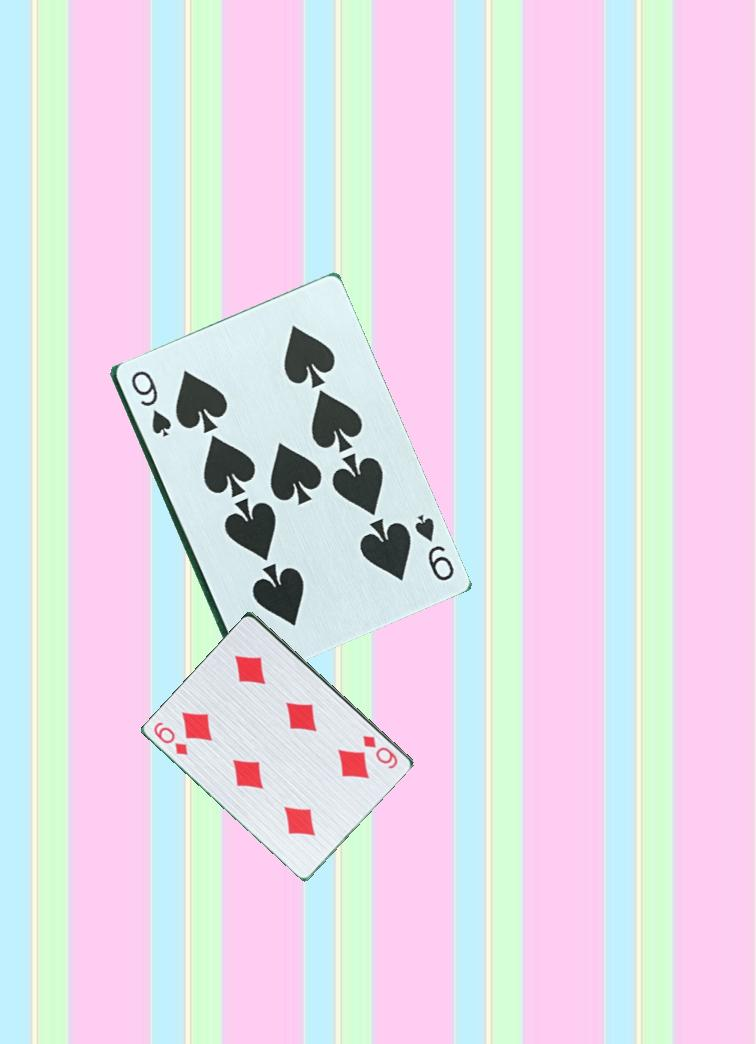6d: (359, 731, 401, 772), (149, 718, 191, 758)
9s: (410, 510, 457, 584), (127, 367, 172, 440)
